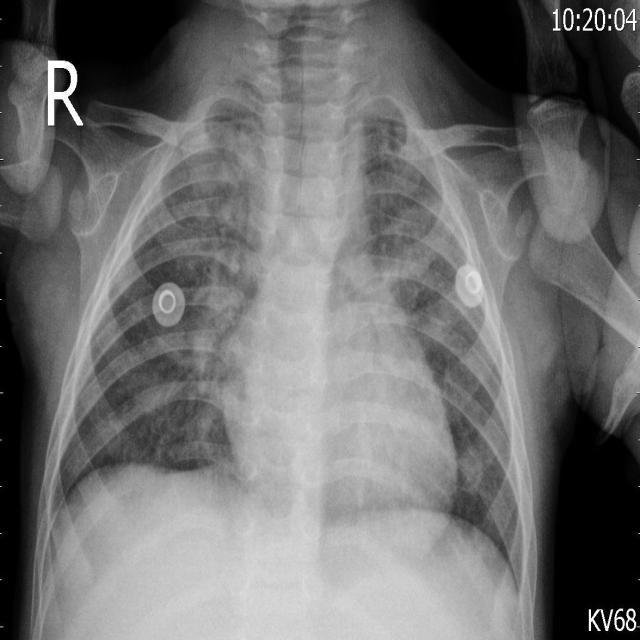low-pneumonia: (160, 246, 258, 461), (373, 193, 463, 318), (194, 117, 268, 257), (344, 86, 429, 182)
